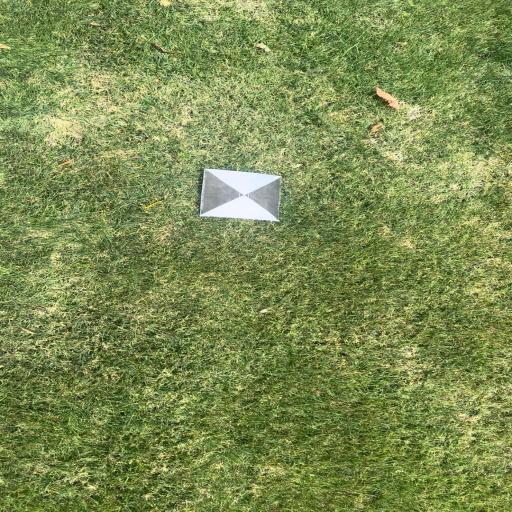target: (200, 168, 281, 222)
